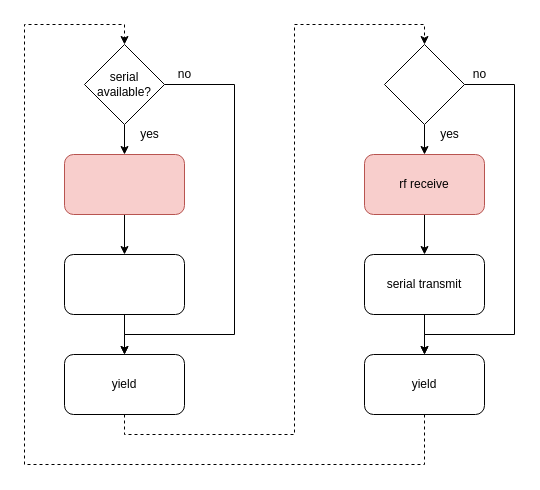
This 540x490 diagram has some shape labels left out. The box of each missing label's shape, as (x1, y1, x2, y2) in pixels:
RF available?: (384, 44, 464, 124)
RF transmit: (64, 254, 184, 314)
serial receive: (64, 154, 184, 214)
